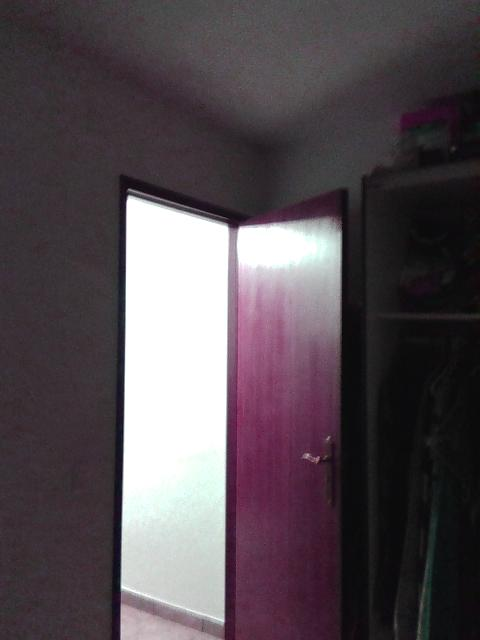open_door: (112, 171, 256, 637)
